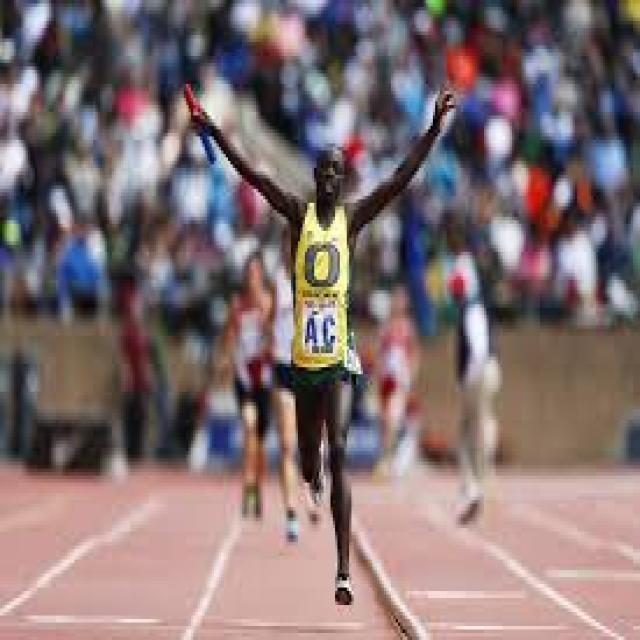running: (182, 81, 462, 610)
